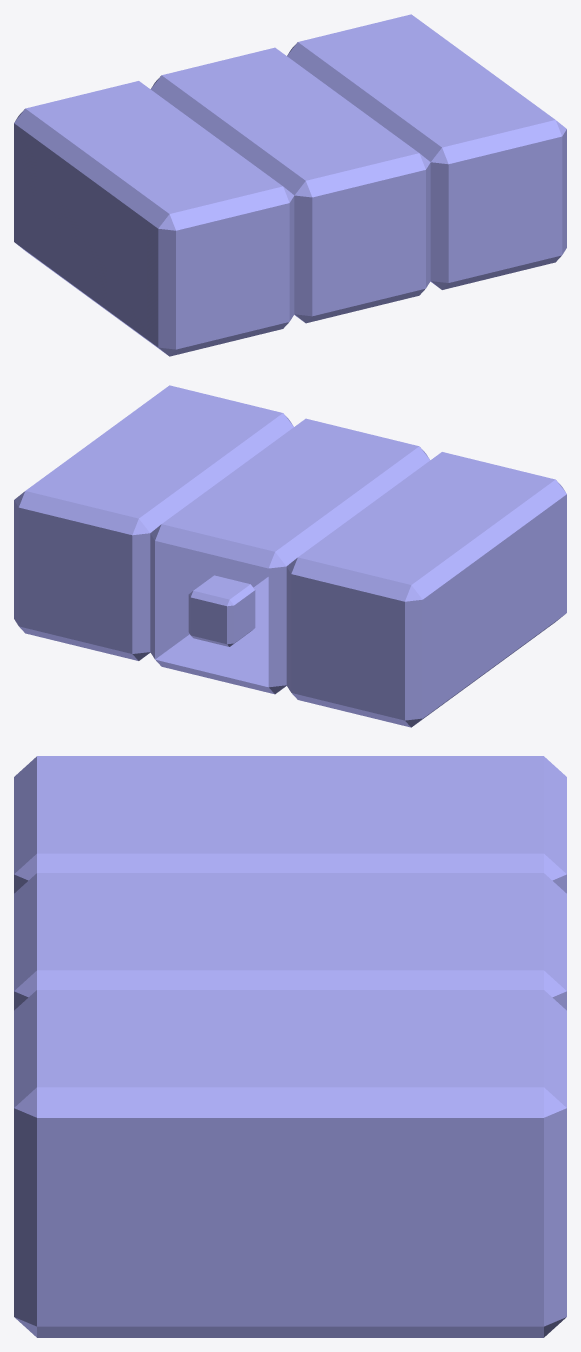
3 renders of one model, top to bottom at view 1: azimuth 30°, elevation 25°; view 2: azimuth 150°, elevation 25°; view 3: azimuth 270°, elevation 25°, orthographic. The views are drawn at different scales.
Parts seen in each view (by area): view 1: box, Cube_1, Cube_3; view 2: box, Cube_1, Cube_3; view 3: box, Cube_1.
Boxes of the visible parts, x1,y1,x2,y2 form: box: (14,14,566,356); Cube_1: (150,47,430,323); Cube_3: (312,170,425,316); box: (14,385,566,727); Cube_1: (150,418,430,694); Cube_3: (188,575,255,646); box: (14,756,566,1337); Cube_1: (14,873,566,1010).
Bounding box in the file's own units: 900 × 300 × 600.
